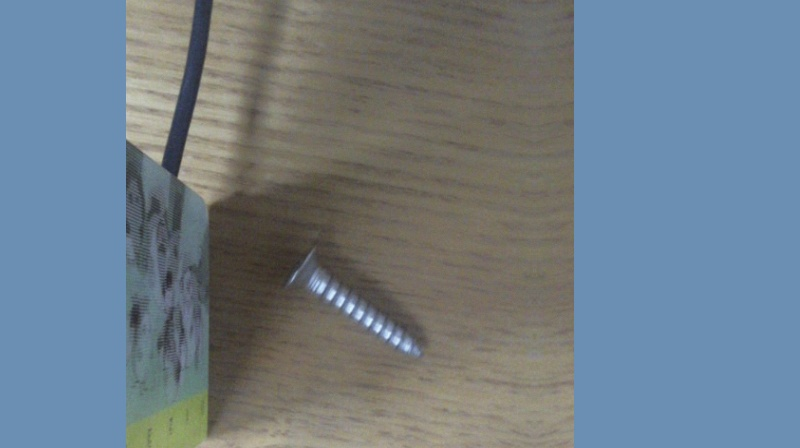S001: (276, 241, 427, 363)
